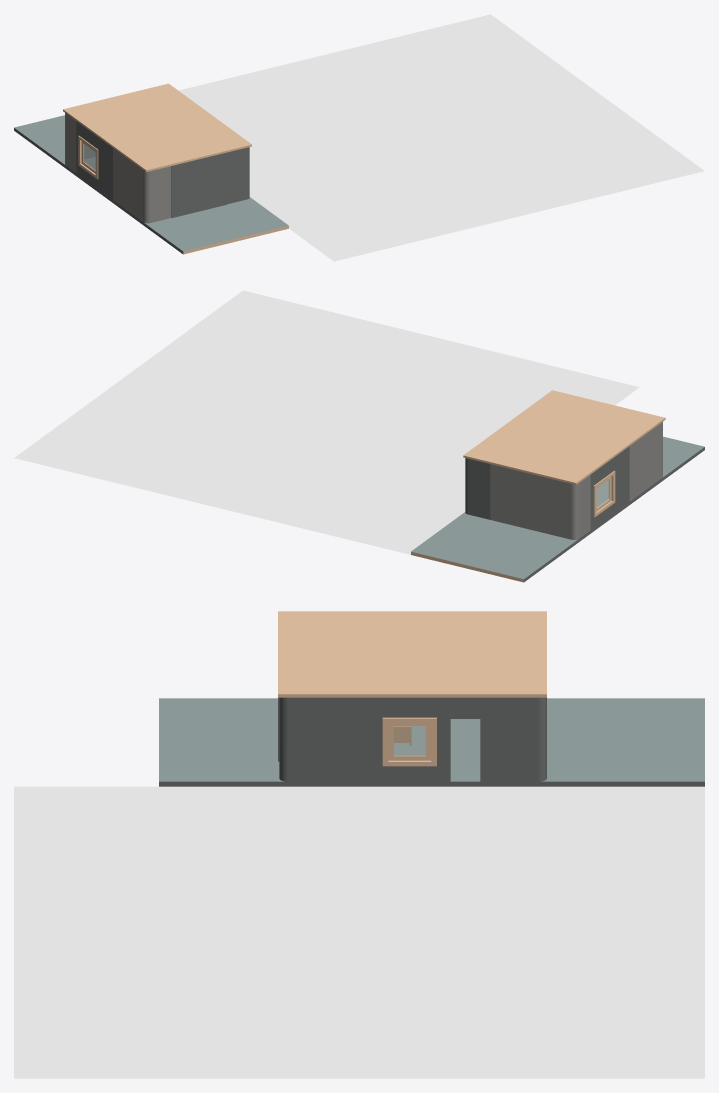
Rendered from untitledGOO2222.glb.
3 renders of one model, top to bottom at view 1: azimuth 30°, elevation 25°; view 2: azimuth 150°, elevation 25°; view 3: azimuth 270°, elevation 25°, orthographic. The views are drawn at different scales.
Parts seen in each view (by area): view 1: Platform_Metal, floorFull(Clone), Floor.002, wallCornerRond(Clone), wall(Clone).001, wallWindow(Clone).001, wallCornerRond(Clone).005, wallCornerRond(Clone).002; view 2: Platform_Metal, floorFull(Clone), Floor.002, wallCornerRond(Clone).002, wallWindow(Clone).001, wallCornerRond(Clone), wallCornerRond(Clone).007; view 3: Platform_Metal, Floor.002, floorFull(Clone), wallWindow(Clone), wallCornerRond(Clone).005, wallCornerRond(Clone).007, window.
Boxes of the visible parts, x1,y1,x2,y2 form: Platform_Metal: (178, 14, 704, 261); floorFull(Clone): (63, 83, 251, 171); Floor.002: (14, 115, 288, 254); wallCornerRond(Clone): (113, 148, 171, 223); wall(Clone).001: (171, 152, 226, 217); wallWindow(Clone).001: (76, 121, 112, 199); wallCornerRond(Clone).005: (226, 147, 249, 204); wallCornerRond(Clone).002: (65, 113, 95, 172); Platform_Metal: (14, 290, 639, 554); floorFull(Clone): (463, 390, 665, 484); Floor.002: (411, 436, 704, 582); wallCornerRond(Clone).002: (490, 464, 590, 539); wallWindow(Clone).001: (590, 446, 629, 529); wallCornerRond(Clone): (629, 422, 662, 501); wallCornerRond(Clone).007: (465, 458, 490, 519); Platform_Metal: (14, 786, 704, 1078); Floor.002: (159, 698, 704, 786); floorFull(Clone): (278, 611, 546, 697); wallWindow(Clone): (354, 697, 450, 781); wallCornerRond(Clone).005: (279, 697, 353, 781); wallCornerRond(Clone).007: (480, 697, 546, 781); window: (388, 722, 431, 760).
Size of the model in its own units: 51.5 by 5.89 by 40.
